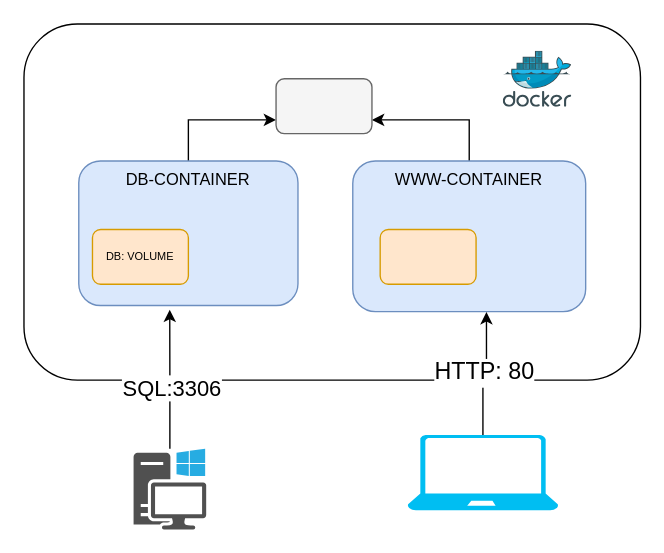
The diagram is 664 pixels wide and 553 high, and some of its shapes have lost their labels. Each missing label, with the box of its shape:
NET1: NET 172.0.0.0/24: (275, 77, 372, 134)
WWW: VOLUME: (379, 228, 476, 284)
